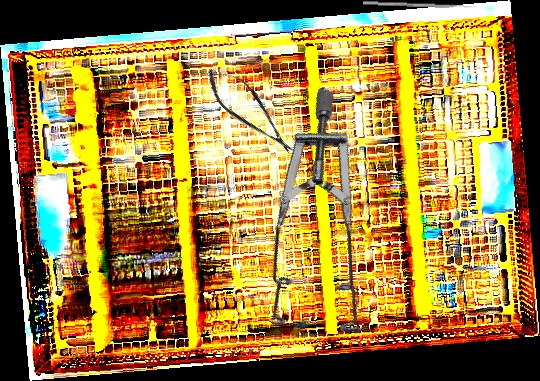Micro Scissor: (197, 58, 304, 164)
Pusher: (362, 0, 480, 10)
Speculum: (190, 84, 466, 370)
